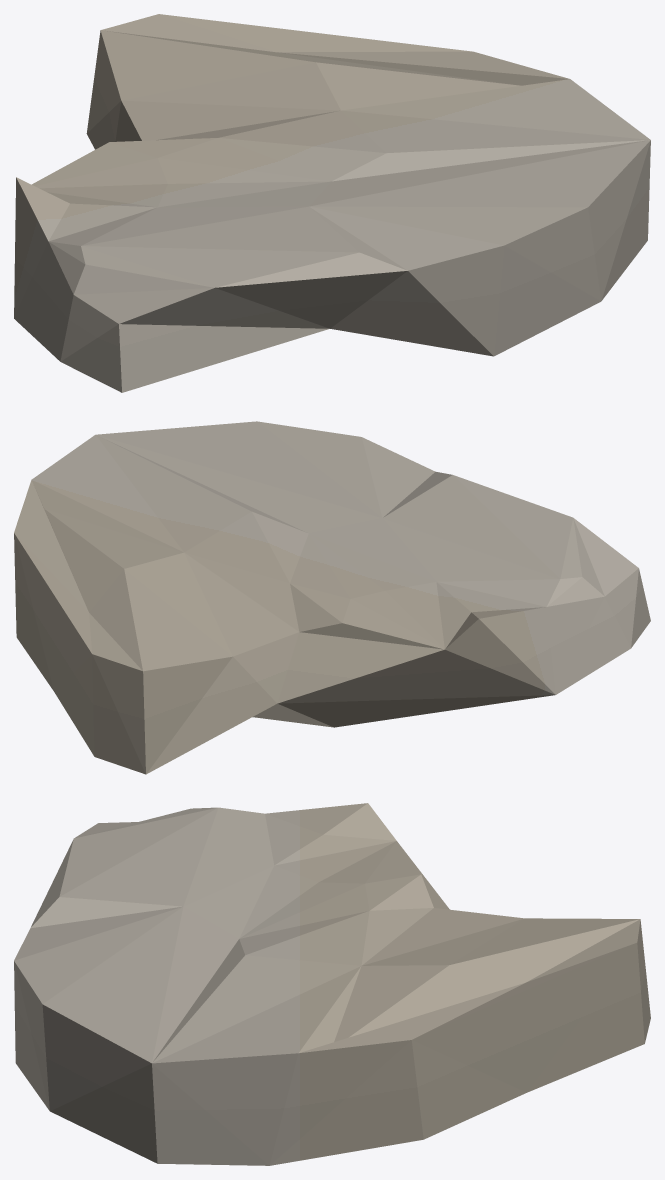
Rendered from YN_RockPlate1.fbx.
3 renders of one model, top to bottom at view 1: azimuth 30°, elevation 25°; view 2: azimuth 150°, elevation 25°; view 3: azimuth 270°, elevation 25°, orthographic. The views are drawn at different scales.
Parts seen in each view (by area): view 1: RockPlate1; view 2: RockPlate1; view 3: RockPlate1.
Boxes of the visible parts, x1,y1,x2,y2 form: RockPlate1: (14, 14, 650, 392); RockPlate1: (14, 421, 650, 774); RockPlate1: (14, 803, 650, 1165).
Size of the model in its own units: 0.9549 by 0.2042 by 0.9204.
